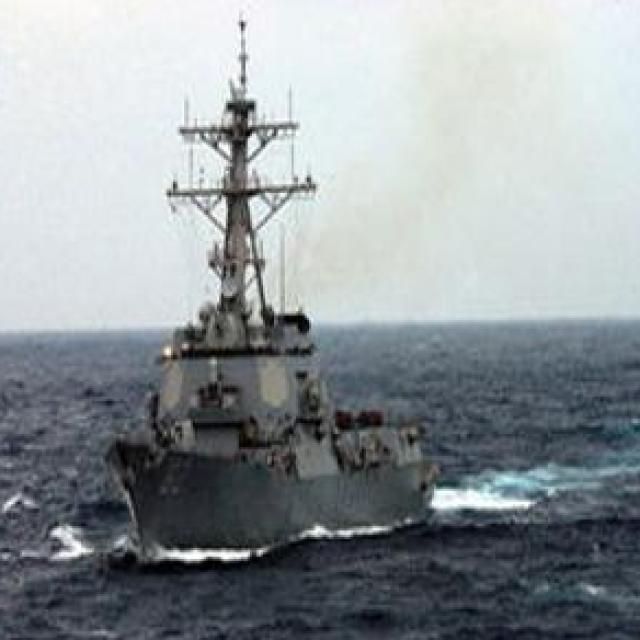navalvessels: (103, 5, 440, 542)
